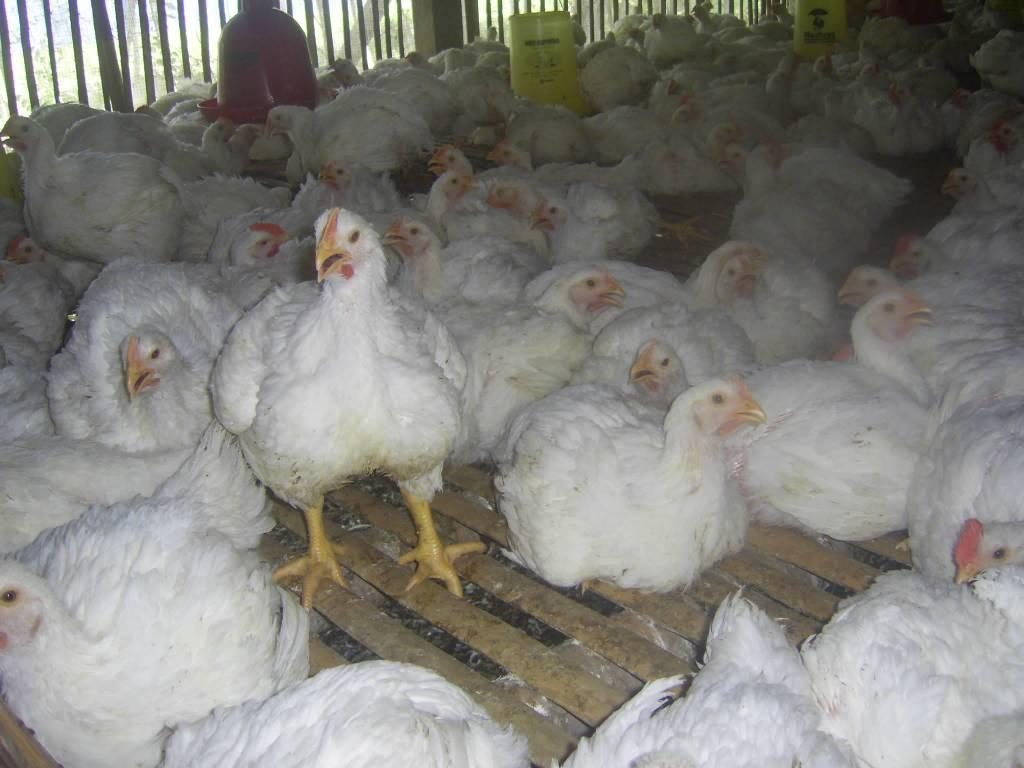chicken: (221, 203, 466, 551), (0, 505, 282, 768), (502, 374, 767, 586), (754, 301, 939, 508), (54, 257, 233, 421), (456, 267, 627, 424), (1, 114, 174, 255), (711, 131, 909, 206)
